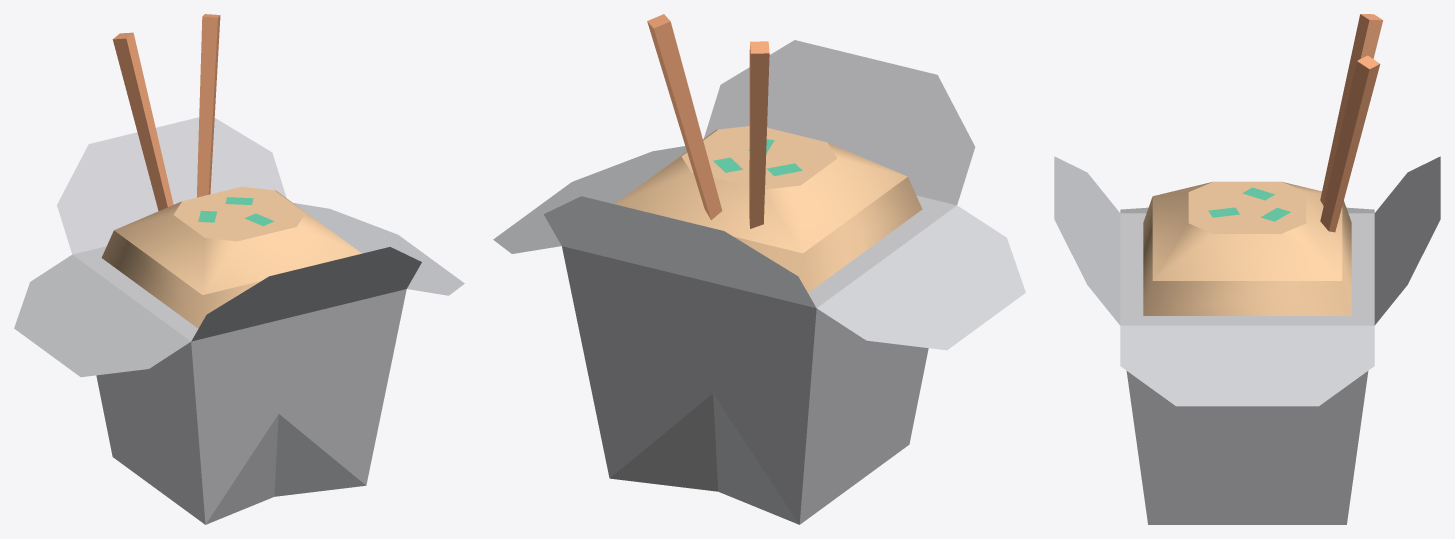
File: chinese.fbx
The picture shows the model from 3 angles, left to right: view 1: azimuth 30°, elevation 25°; view 2: azimuth 150°, elevation 25°; view 3: azimuth 270°, elevation 25°; orthographic projection. The views are drawn at different scales.
Visible parts, largest first — view 1: chinese, chopstick (×2); view 2: chinese, chopstick (×2); view 3: chinese, chopstick (×2).
Part boxes in pixels (x1,y1,x2,y2): chinese: (14, 117, 464, 524); chopstick (×2): (112, 14, 220, 210); chinese: (493, 40, 1025, 524); chopstick (×2): (647, 14, 769, 228); chinese: (1054, 156, 1440, 524); chopstick (×2): (1320, 14, 1383, 232).
Size of the model in its own units: 5.58 by 5.67 by 4.54.
